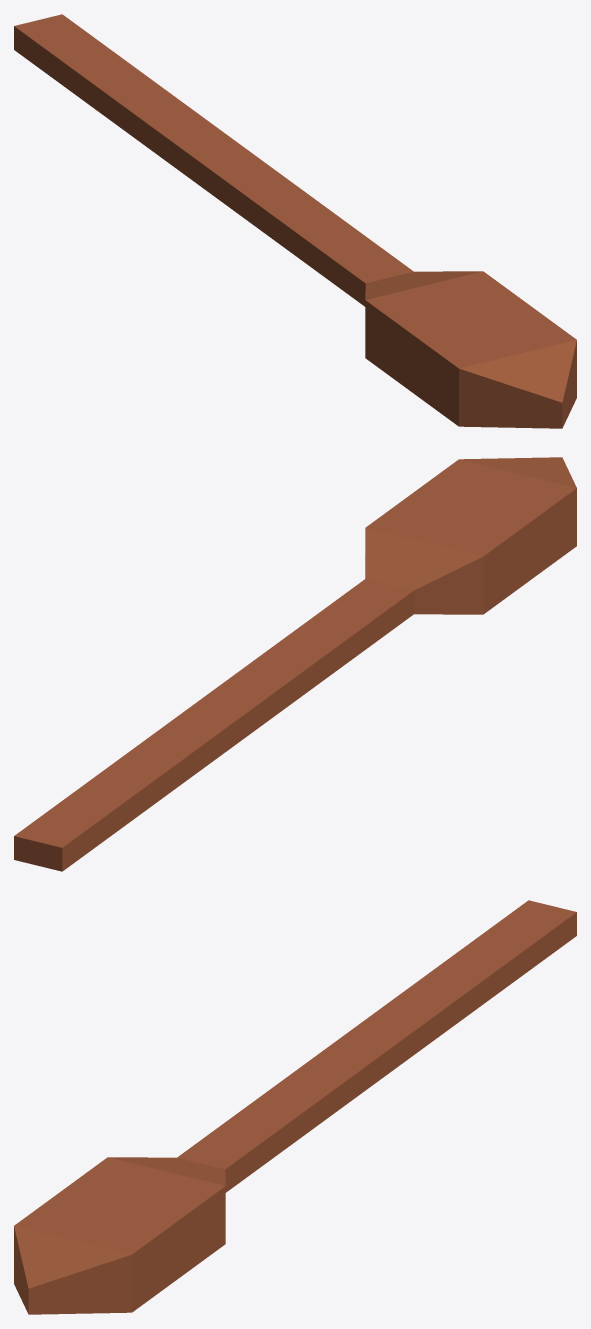
File: canoe_paddle.glb
The picture shows the model from 3 angles, top to bottom: view 1: azimuth 30°, elevation 25°; view 2: azimuth 150°, elevation 25°; view 3: azimuth 330°, elevation 25°; orthographic projection.
Parts seen in each view (by area): view 1: canoe_paddle; view 2: canoe_paddle; view 3: canoe_paddle.
Boxes of the visible parts, x1,y1,x2,y2 form: canoe_paddle: (14,14,576,428); canoe_paddle: (14,457,576,871); canoe_paddle: (14,900,576,1314).
Bounding box in the file's own units: 0.0767 × 0.0361 × 0.5902.
